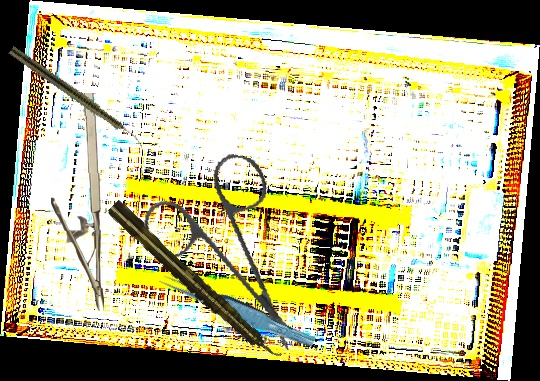Handpiece: (105, 197, 285, 368), (7, 45, 148, 149)
Iris Scissors: (122, 137, 339, 353)
Needle Holder: (49, 92, 104, 312)
Tissue Forceps: (157, 261, 317, 359)
